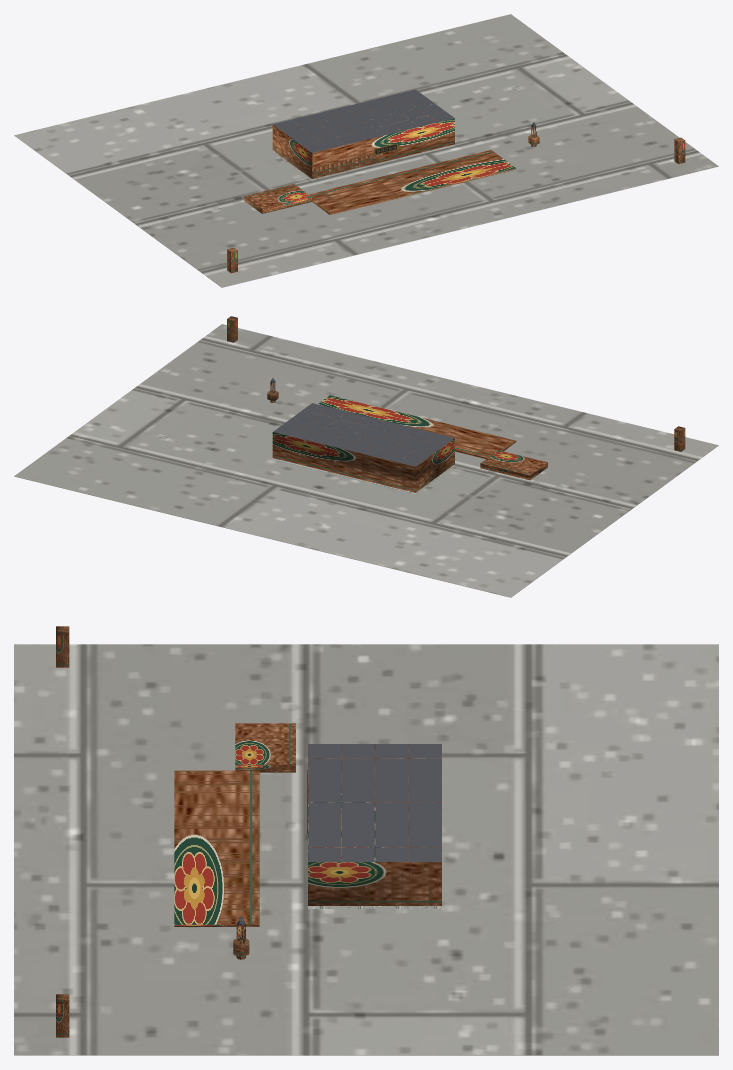
The picture shows the model from 3 angles, top to bottom: view 1: azimuth 30°, elevation 25°; view 2: azimuth 150°, elevation 25°; view 3: azimuth 270°, elevation 25°; orthographic projection. The views are drawn at different scales.
Visible parts, largest first — view 1: 11710_01_05549_025_01_L2__base, 11710_01_05549_025_02_L2__body, 11710_01_05549_025_03_L2__roof, 11710_01_05549_025_06_L2__green, 11710_01_05549_025_05_L2__openings; view 2: 11710_01_05549_025_01_L2__base, 11710_01_05549_025_02_L2__body, 11710_01_05549_025_03_L2__roof, 11710_01_05549_025_06_L2__green; view 3: 11710_01_05549_025_01_L2__base, 11710_01_05549_025_02_L2__body, 11710_01_05549_025_03_L2__roof, 11710_01_05549_025_06_L2__green.
Boxes of the visible parts, left/top/right/bottom form: 11710_01_05549_025_01_L2__base: left=14, top=14, right=718, bottom=287; 11710_01_05549_025_02_L2__body: left=244, top=94, right=539, bottom=214; 11710_01_05549_025_03_L2__roof: left=273, top=89, right=536, bottom=152; 11710_01_05549_025_06_L2__green: left=227, top=137, right=685, bottom=273; 11710_01_05549_025_05_L2__openings: left=313, top=153, right=373, bottom=176; 11710_01_05549_025_01_L2__base: left=14, top=324, right=718, bottom=597; 11710_01_05549_025_02_L2__body: left=267, top=382, right=547, bottom=492; 11710_01_05549_025_03_L2__roof: left=270, top=378, right=454, bottom=466; 11710_01_05549_025_06_L2__green: left=227, top=316, right=685, bottom=451; 11710_01_05549_025_01_L2__base: left=14, top=644, right=718, bottom=1055; 11710_01_05549_025_02_L2__body: left=174, top=723, right=441, bottom=959; 11710_01_05549_025_03_L2__roof: left=237, top=744, right=441, bottom=925; 11710_01_05549_025_06_L2__green: left=56, top=626, right=69, bottom=1037.
Size of the model in its own units: 160 by 8.62 by 116.
Materials: 5 (5 with a texture image).
